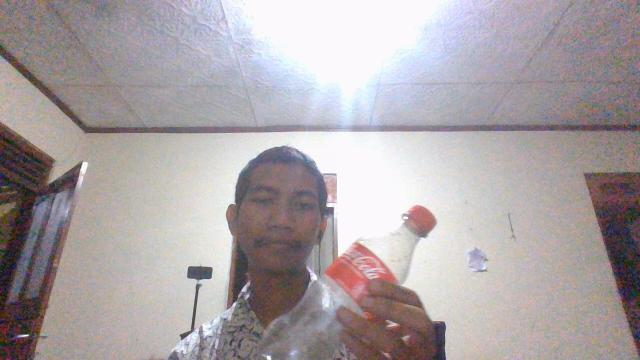coca-cola: (258, 202, 438, 360)
